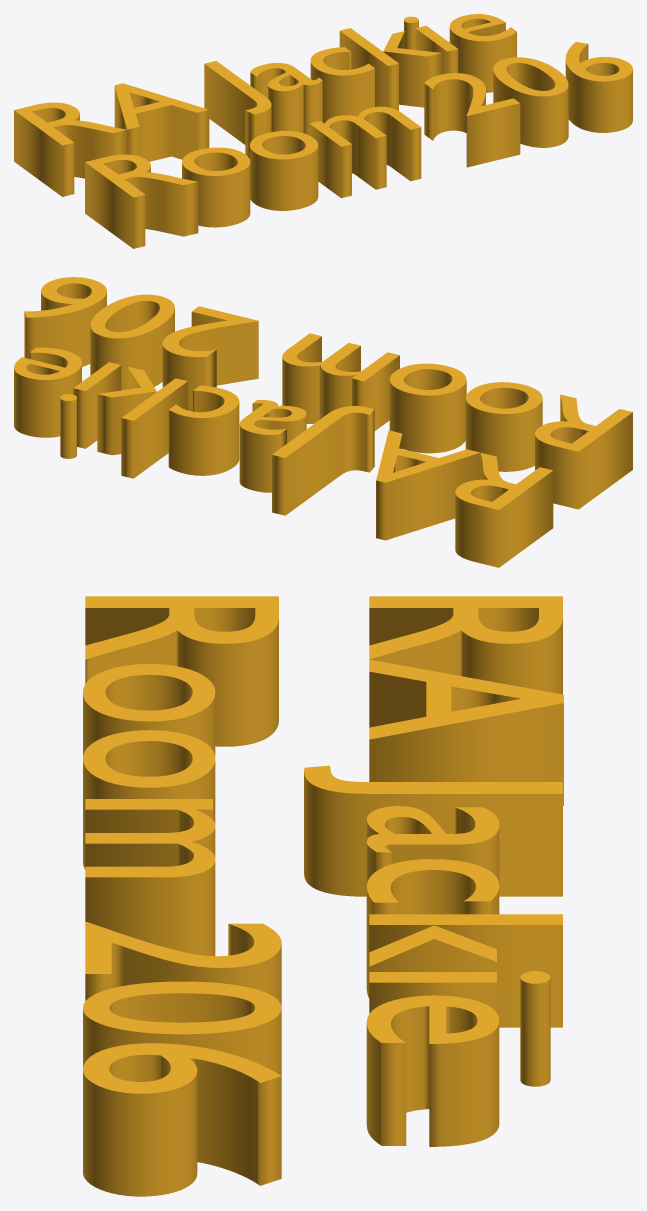
Rendered from ra-jackie-206.gltf.
3 views of the same model, one above another, from view 1: azimuth 30°, elevation 25°; view 2: azimuth 150°, elevation 25°; view 3: azimuth 270°, elevation 25° (orthographic). The views are drawn at different scales.
Parts seen in each view (by area): view 1: Text; view 2: Text; view 3: Text.
Boxes of the visible parts, bbox=[...] form: Text: bbox=[14, 14, 632, 248]; Text: bbox=[14, 277, 632, 567]; Text: bbox=[83, 596, 563, 1196].
Size of the model in its own units: 4.15 by 0.4 by 1.69.
